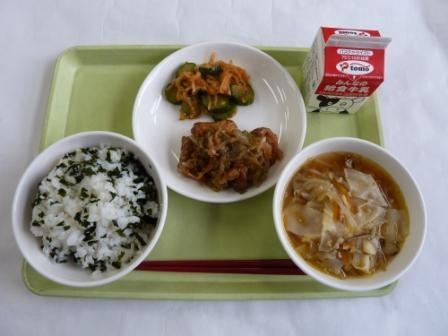Meat: (179, 117, 288, 196)
Milk: (302, 18, 382, 113)
Rice: (14, 136, 166, 282)
Salad: (157, 51, 266, 116)
Soups: (276, 147, 413, 275)
